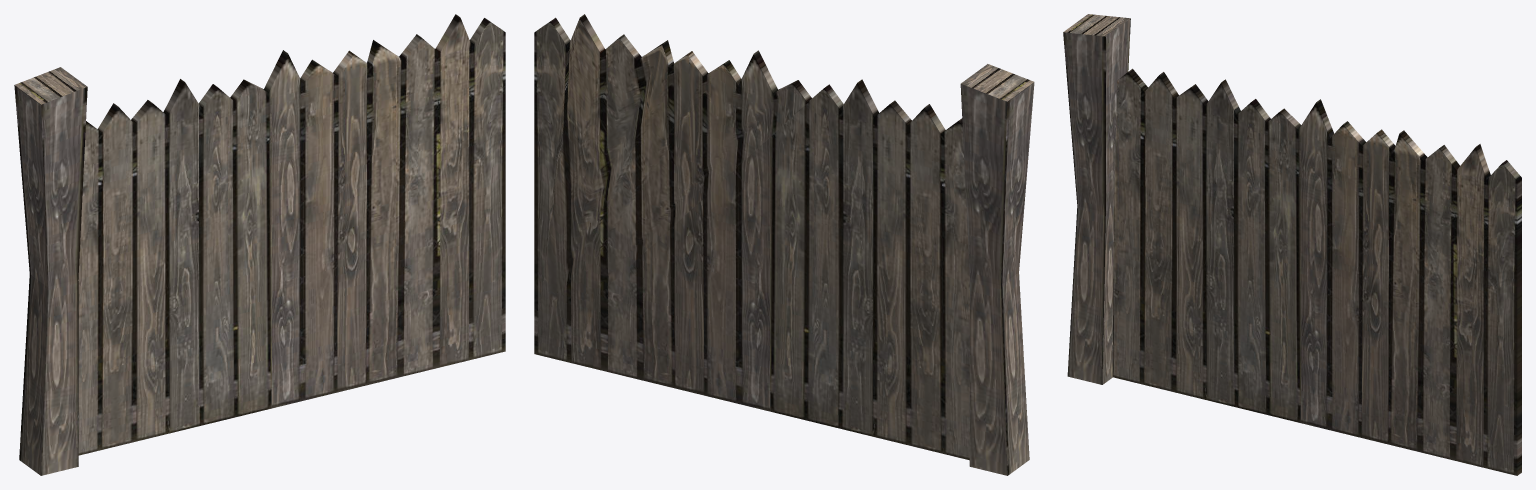
Rendered from Fence.fbx.
3 renders of one model, left to right at view 1: azimuth 30°, elevation 25°; view 2: azimuth 150°, elevation 25°; view 3: azimuth 330°, elevation 25°, orthographic. The views are drawn at different scales.
Visible parts, largest first — view 1: WoodPlanksFences0127_1_350; view 2: WoodPlanksFences0127_1_350; view 3: WoodPlanksFences0127_1_350.
Boxes of the visible parts, x1,y1,x2,y2 form: WoodPlanksFences0127_1_350: [14, 14, 505, 475]; WoodPlanksFences0127_1_350: [534, 14, 1034, 475]; WoodPlanksFences0127_1_350: [1063, 14, 1521, 475].
Size of the model in its own units: 1494 by 1137 by 146.
